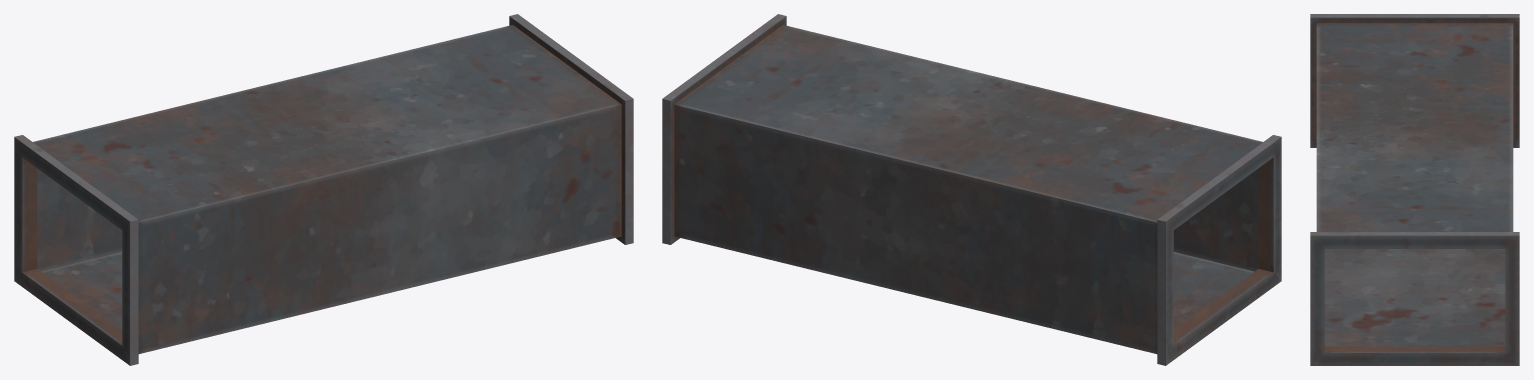
Rendered from Vent_Base_A.fbx.
The picture shows the model from 3 angles, left to right: view 1: azimuth 30°, elevation 25°; view 2: azimuth 150°, elevation 25°; view 3: azimuth 270°, elevation 25°; orthographic projection. The views are drawn at different scales.
Parts seen in each view (by area): view 1: Cube; view 2: Cube; view 3: Cube.
Boxes of the visible parts, left/top/right/bottom form: Cube: left=14, top=14, right=633, bottom=365; Cube: left=662, top=14, right=1281, bottom=365; Cube: left=1310, top=14, right=1519, bottom=365.
Bounding box in the file's own units: 400 × 109 × 159.
